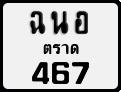letters: (51, 11, 69, 35), (32, 61, 50, 85), (51, 62, 70, 84), (72, 62, 90, 85), (29, 11, 46, 35), (75, 11, 88, 34)
province: (44, 43, 79, 55)
